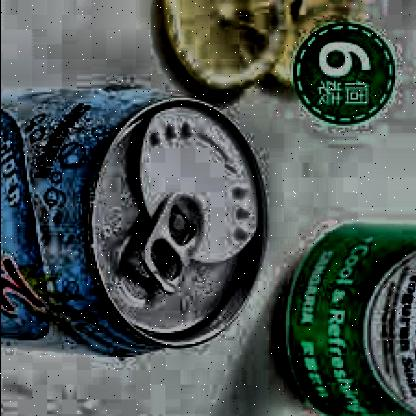Can: (0, 74, 274, 364), (280, 220, 416, 416)
